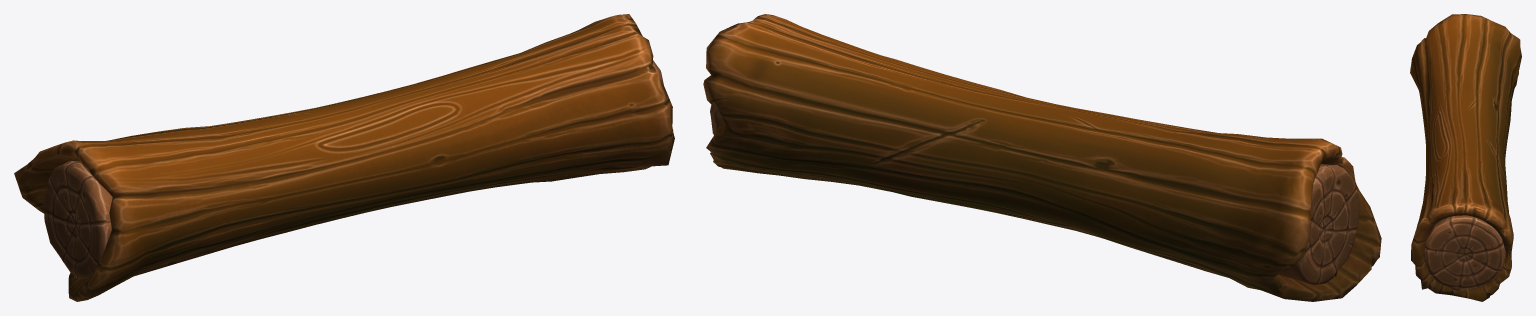
Rendered from ENV0810001.FBX.
3 views of the same model, side by side, from view 1: azimuth 30°, elevation 25°; view 2: azimuth 150°, elevation 25°; view 3: azimuth 270°, elevation 25° (orthographic). The views are drawn at different scales.
Visible parts, largest first — view 1: smENV0810001; view 2: smENV0810001; view 3: smENV0810001.
Boxes of the visible parts, <box> form: smENV0810001: <box>14,14,674,301</box>; smENV0810001: <box>703,14,1381,301</box>; smENV0810001: <box>1410,14,1521,301</box>.
Size of the model in its own units: 130 by 30.4 by 30.72.
Materials: 1 (1 with a texture image).
